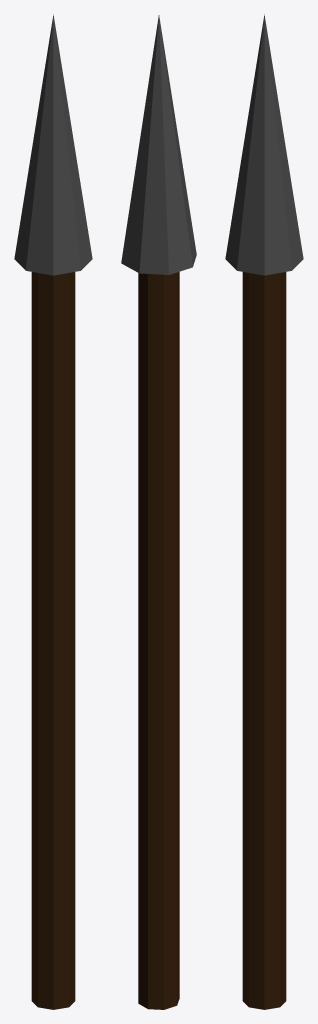
Rendered from Spike.fbx.
The picture shows the model from 3 angles, left to right: view 1: azimuth 90°, elevation 25°; view 2: azimuth 150°, elevation 25°; view 3: azimuth 270°, elevation 25°; orthographic projection.
Parts seen in each view (by area): view 1: Cylinder; view 2: Cylinder; view 3: Cylinder.
Part boxes in pixels (bbox=[...]): Cylinder: bbox=[14, 14, 92, 1009]; Cylinder: bbox=[121, 15, 196, 1009]; Cylinder: bbox=[225, 14, 303, 1009].
Size of the model in its own units: 12.61 by 175 by 12.6.
